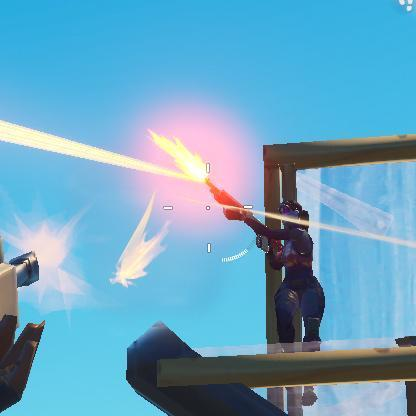person: (226, 214, 326, 346)
